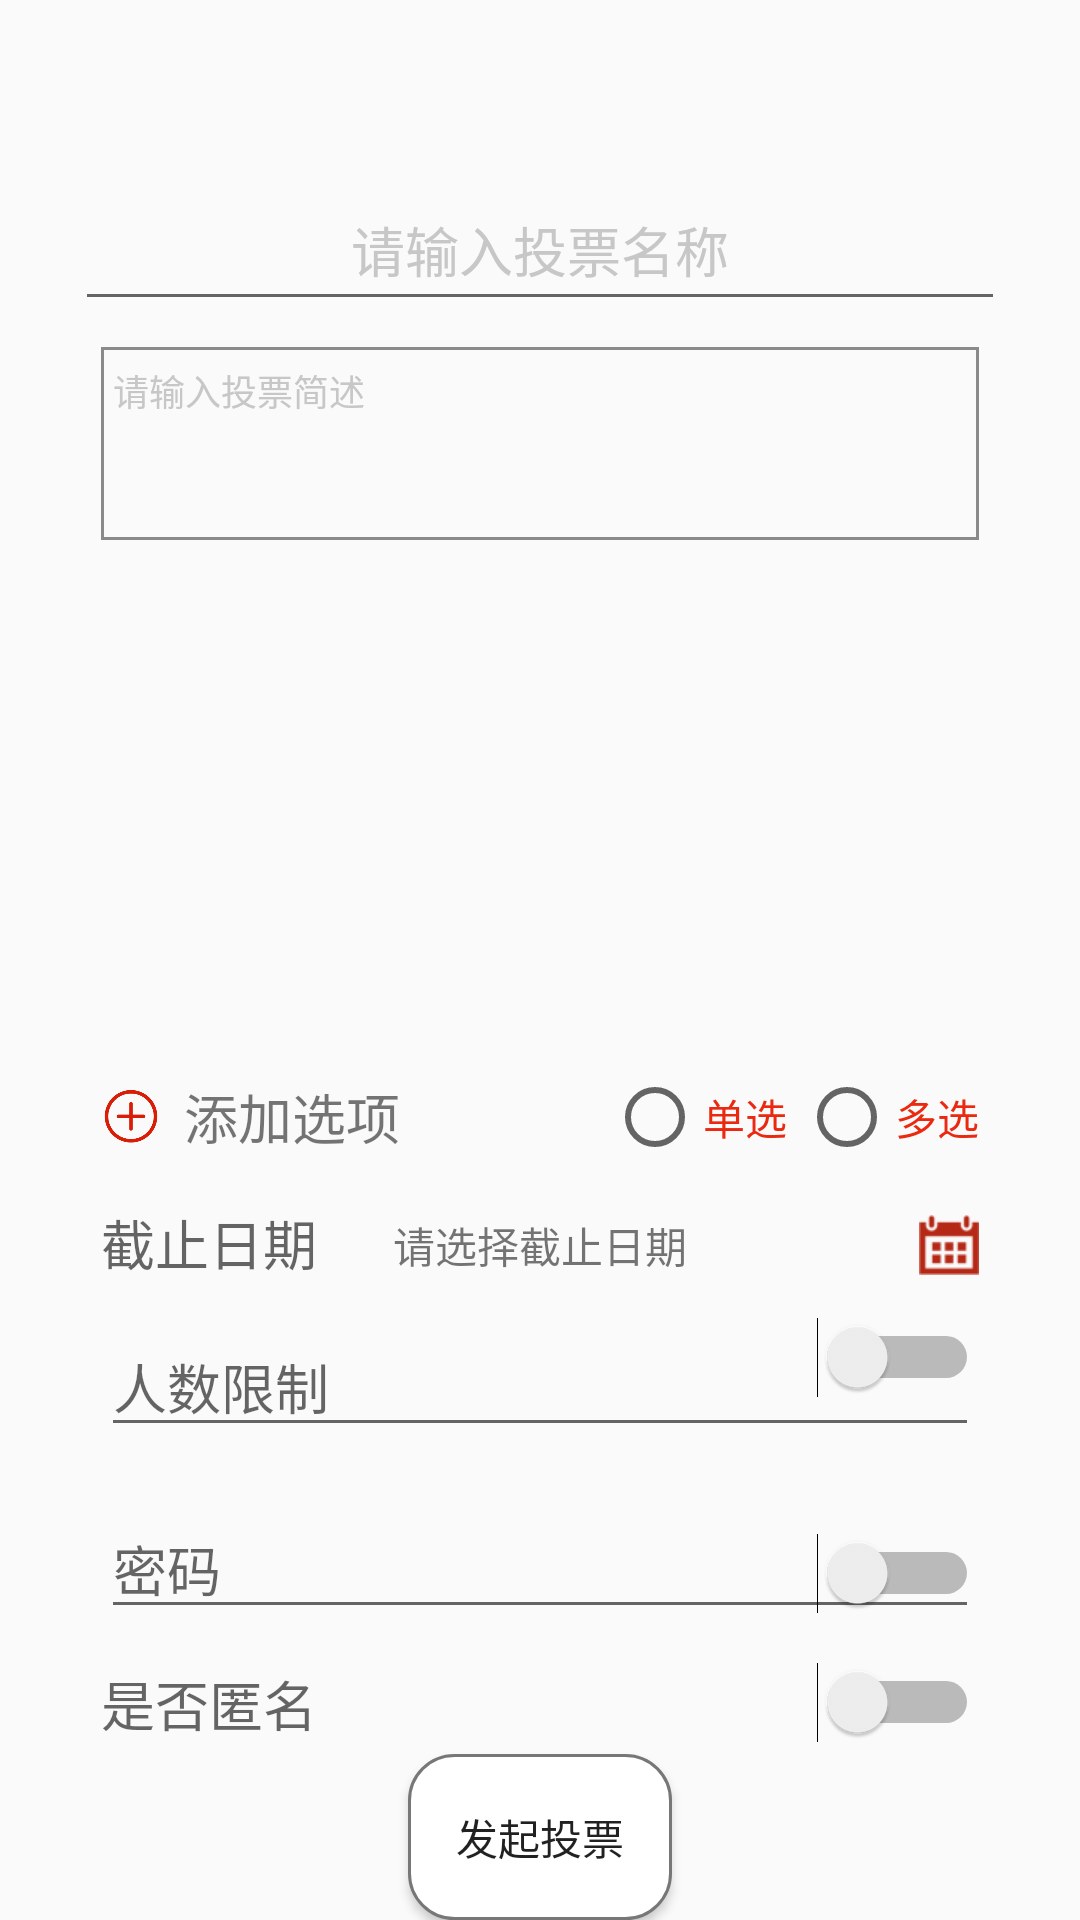

Screen size 1080x1920. Icon name, then its box in pixels as (x1, y1, x2, y2):
add: (105, 1090, 157, 1143)
calender: (919, 1215, 979, 1275)
